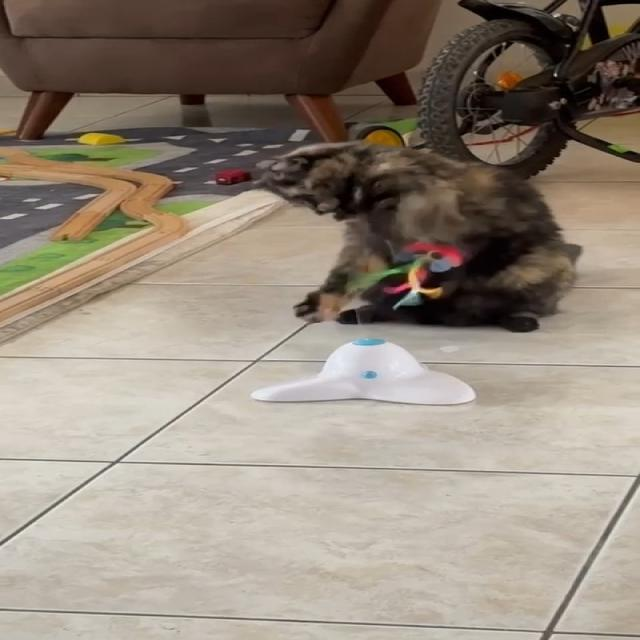authorized: (251, 139, 580, 332)
